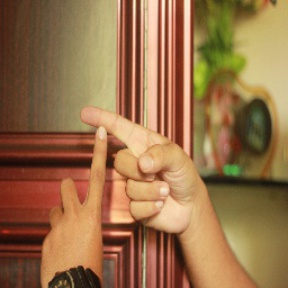T: (45, 96, 164, 232)
